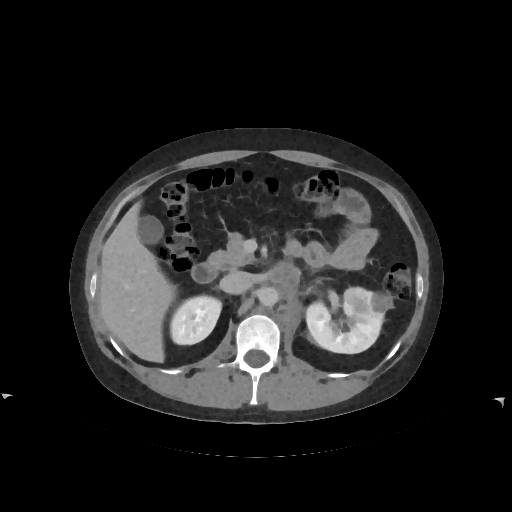Lesion: (367, 286, 395, 315)
